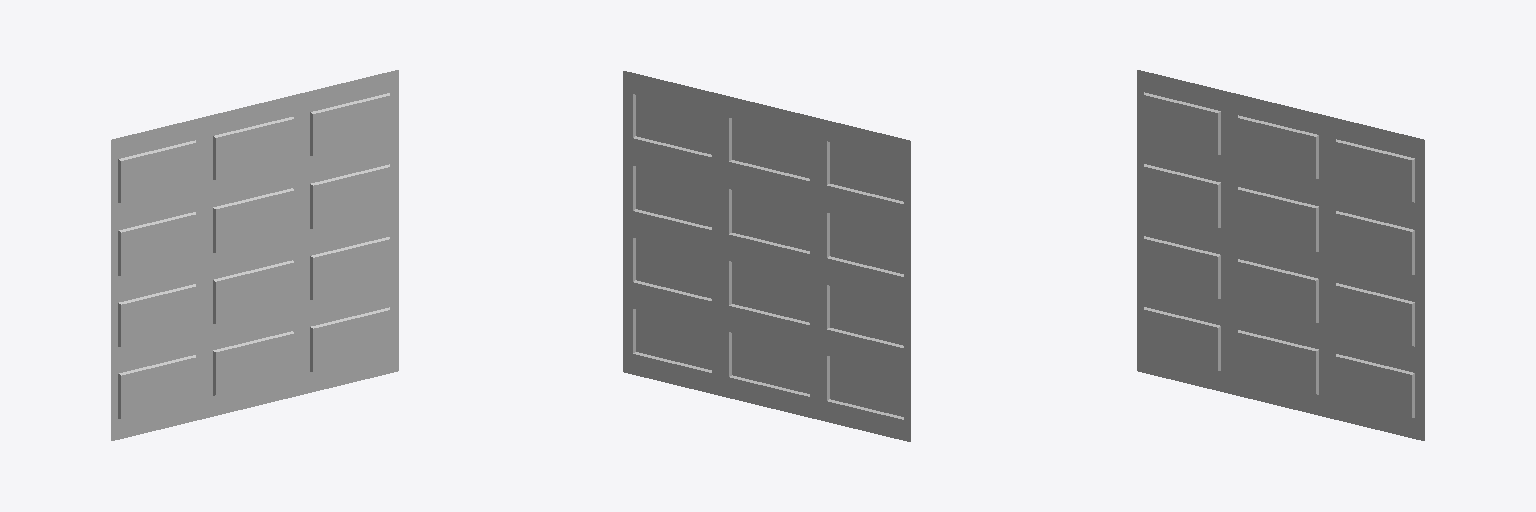
File: building.obj
The picture shows the model from 3 angles: view 1: azimuth 30°, elevation 25°; view 2: azimuth 150°, elevation 25°; view 3: azimuth 330°, elevation 25°; orthographic projection.
Visible parts, largest first — view 1: IndustrialBuildingFront_Plane.001; view 2: IndustrialBuildingFront_Plane.001; view 3: IndustrialBuildingFront_Plane.001.
Part boxes in pixels (x1,y1,x2,y2): IndustrialBuildingFront_Plane.001: (111,70,398,440); IndustrialBuildingFront_Plane.001: (623,71,910,441); IndustrialBuildingFront_Plane.001: (1137,70,1424,440).
Bounding box in the file's own units: 8 × 8 × 0.0712.